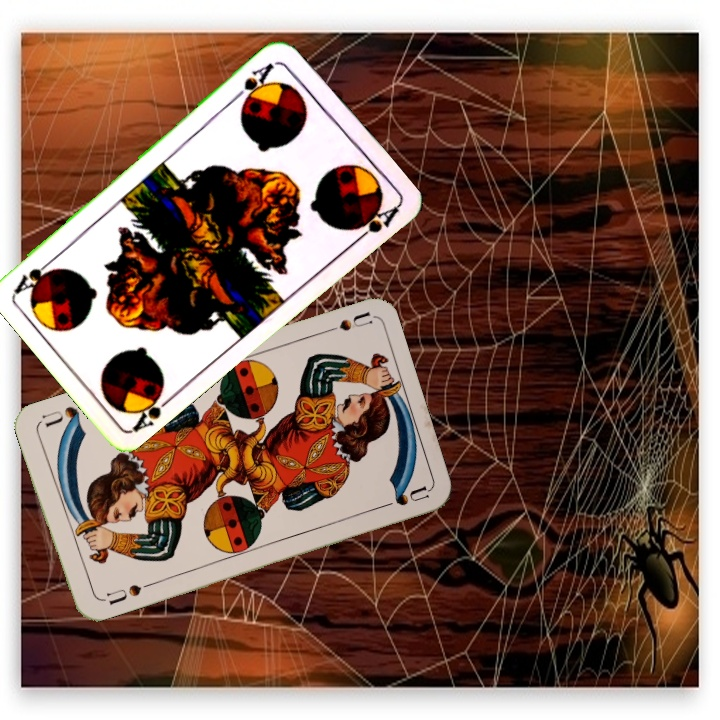SA: (125, 380, 178, 435), (231, 58, 280, 108)
SU: (314, 308, 373, 338), (102, 580, 144, 608)
